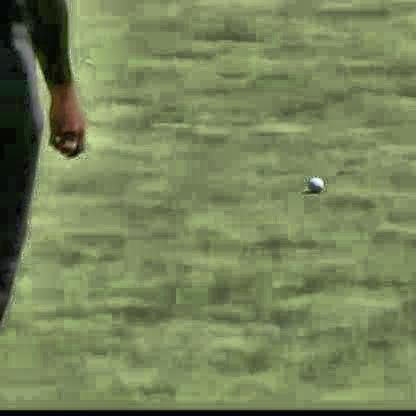golfball: (304, 175, 323, 193)
